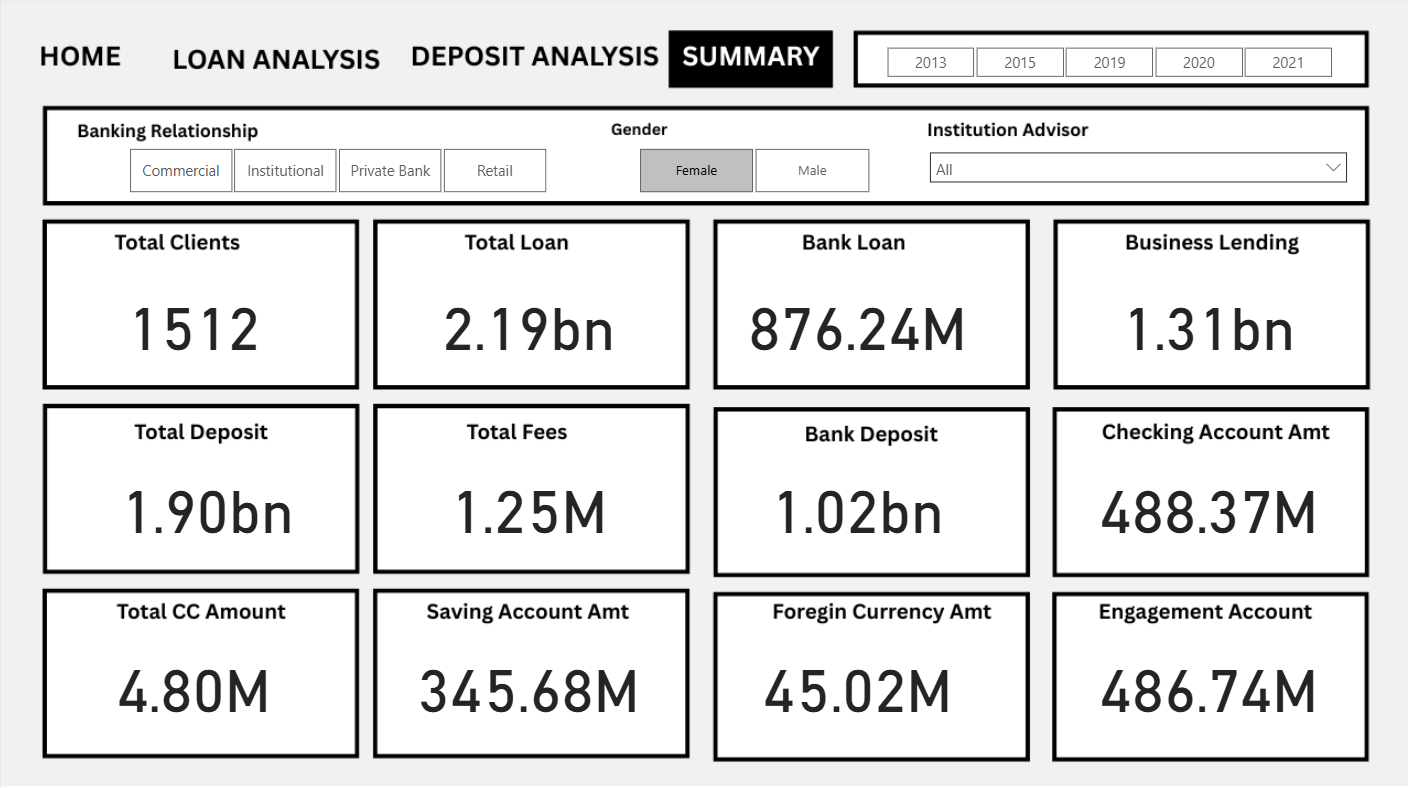

This screenshot's page, from the dashboard's own definition file:
{"tool":"powerbi","page":{"name":"Summary","canvas":[1280,720],"ordinal":3},"visuals":[{"type":"actionButton","box":[28.4,35.1,100,39.5],"z":0},{"type":"actionButton","box":[149.3,35.1,200,39.5],"z":1000},{"type":"actionButton","box":[369.8,34.9,232.6,39.5],"z":2000},{"type":"slicer","fields":{"Values":["banking_case customer.Year of joining"]},"box":[777.9,39.5,453.5,38.4],"z":3000},{"type":"slicer","fields":{"Values":["banking_case customer.BRId"]},"box":[90.7,131.4,427.9,53.5],"z":4000},{"type":"slicer","fields":{"Values":["banking_case customer.GenderId"]},"box":[553.5,131.4,258.1,53.5],"z":5000},{"type":"slicer","fields":{"Values":["banking_case customer.IAId"]},"box":[832.6,131.4,398.8,53.5],"z":6000},{"type":"card","fields":{"Values":["CountNonNull(banking_case customer.Name)"]},"box":[66.3,270.9,218.6,69.8],"z":7000},{"type":"card","fields":{"Values":["banking_case customer.Total Loan"]},"box":[369.8,270.9,218.6,69.8],"z":8000},{"type":"card","fields":{"Values":["Sum(banking_case customer.Bank Loans)"]},"box":[668.6,270.9,218.6,69.8],"z":9000},{"type":"card","fields":{"Values":["Sum(banking_case customer.Business Lending)"]},"box":[987.2,270.9,218.6,69.8],"z":10000},{"type":"card","fields":{"Values":["banking_case customer.Total Deposit"]},"box":[77.9,438.4,218.6,69.8],"z":11000},{"type":"card","fields":{"Values":["banking_case customer.Total Fee"]},"box":[369.8,438.4,218.6,69.8],"z":12000},{"type":"card","fields":{"Values":["Sum(banking_case customer.Bank Deposits)"]},"box":[668.6,438.4,218.6,69.8],"z":13000},{"type":"card","fields":{"Values":["Sum(banking_case customer.Checking Accounts)"]},"box":[987.2,438.4,218.6,69.8],"z":14000},{"type":"card","fields":{"Values":["Sum(banking_case customer.Credit Card Balance)"]},"box":[66.3,600,218.6,69.8],"z":15000},{"type":"card","fields":{"Values":["Sum(banking_case customer.Saving Accounts)"]},"box":[369.8,600,218.6,69.8],"z":16000},{"type":"card","fields":{"Values":["Sum(banking_case customer.Foreign Currency Account)"]},"box":[668.6,600,218.6,69.8],"z":17000},{"type":"card","fields":{"Values":["banking_case customer.Engagement Account"]},"box":[987.2,600,218.6,69.8],"z":18000}]}

Visuals, with their boxes in screenshot pixels (x1, y1, x2, y2), scaled from the page's 1280x720 canvas onto the 1408x788 screenshot:
actionButton: <region>31, 38, 141, 82</region>
actionButton: <region>164, 38, 384, 82</region>
actionButton: <region>407, 38, 663, 81</region>
slicer - banking_case customer.Year of joining: <region>856, 43, 1355, 85</region>
slicer - banking_case customer.BRId: <region>100, 144, 570, 202</region>
slicer - banking_case customer.GenderId: <region>609, 144, 893, 202</region>
slicer - banking_case customer.IAId: <region>916, 144, 1355, 202</region>
card - CountNonNull(banking_case customer.Name): <region>73, 296, 313, 373</region>
card - banking_case customer.Total Loan: <region>407, 296, 647, 373</region>
card - Sum(banking_case customer.Bank Loans): <region>735, 296, 976, 373</region>
card - Sum(banking_case customer.Business Lending): <region>1086, 296, 1326, 373</region>
card - banking_case customer.Total Deposit: <region>86, 480, 326, 556</region>
card - banking_case customer.Total Fee: <region>407, 480, 647, 556</region>
card - Sum(banking_case customer.Bank Deposits): <region>735, 480, 976, 556</region>
card - Sum(banking_case customer.Checking Accounts): <region>1086, 480, 1326, 556</region>
card - Sum(banking_case customer.Credit Card Balance): <region>73, 657, 313, 733</region>
card - Sum(banking_case customer.Saving Accounts): <region>407, 657, 647, 733</region>
card - Sum(banking_case customer.Foreign Currency Account): <region>735, 657, 976, 733</region>
card - banking_case customer.Engagement Account: <region>1086, 657, 1326, 733</region>
